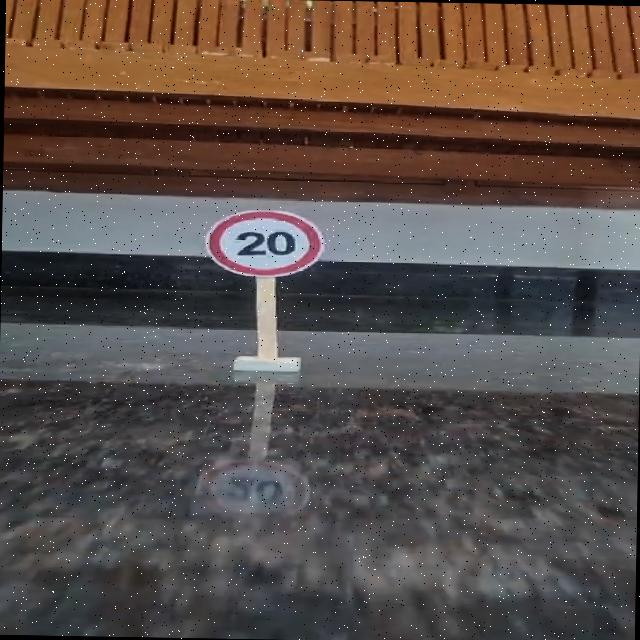Speed20: (198, 206, 331, 280)
